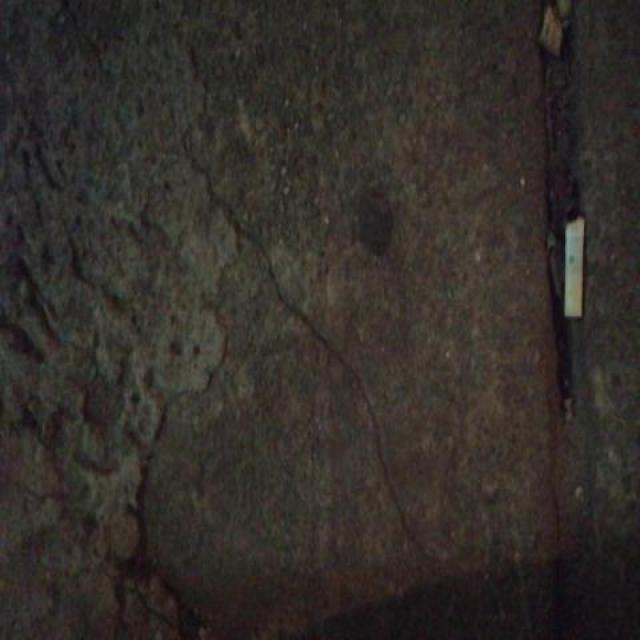non-organic waste: (561, 211, 587, 322)
